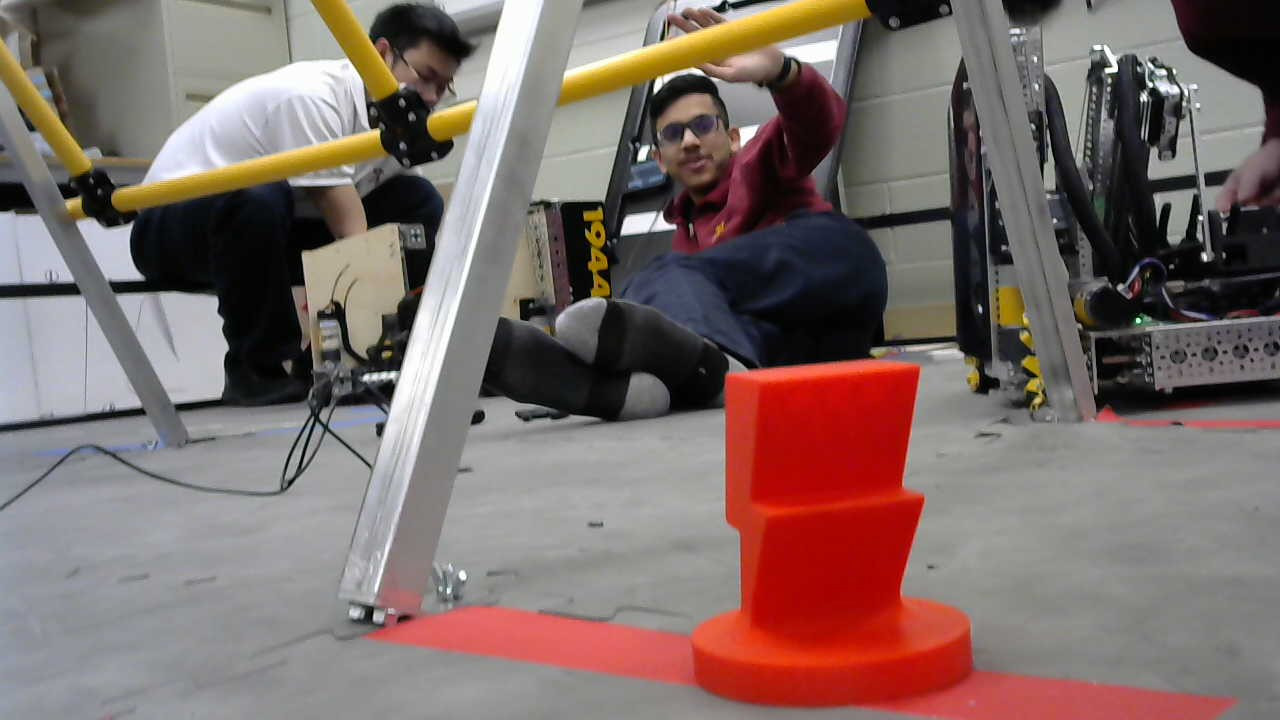redobject: (689, 360, 977, 705)
